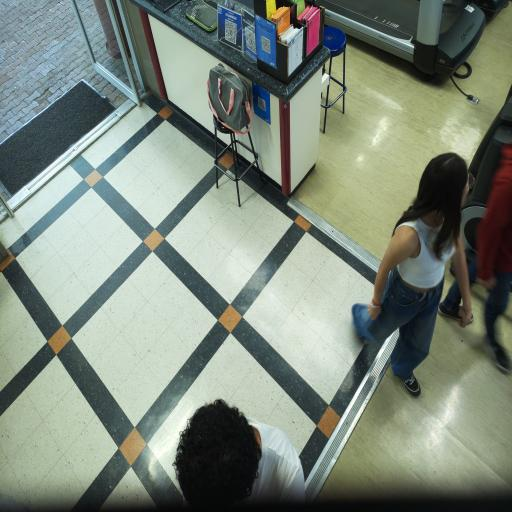person: (352, 154, 473, 395), (174, 400, 304, 505), (469, 145, 511, 372)
